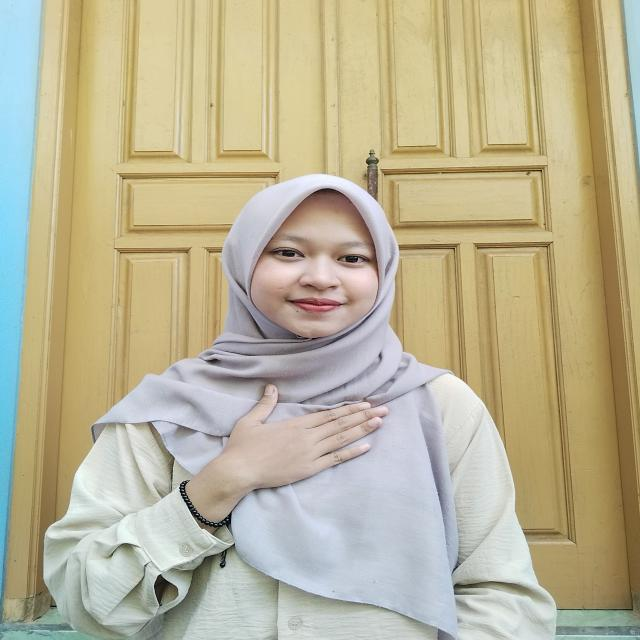tolong: (170, 378, 395, 515)
